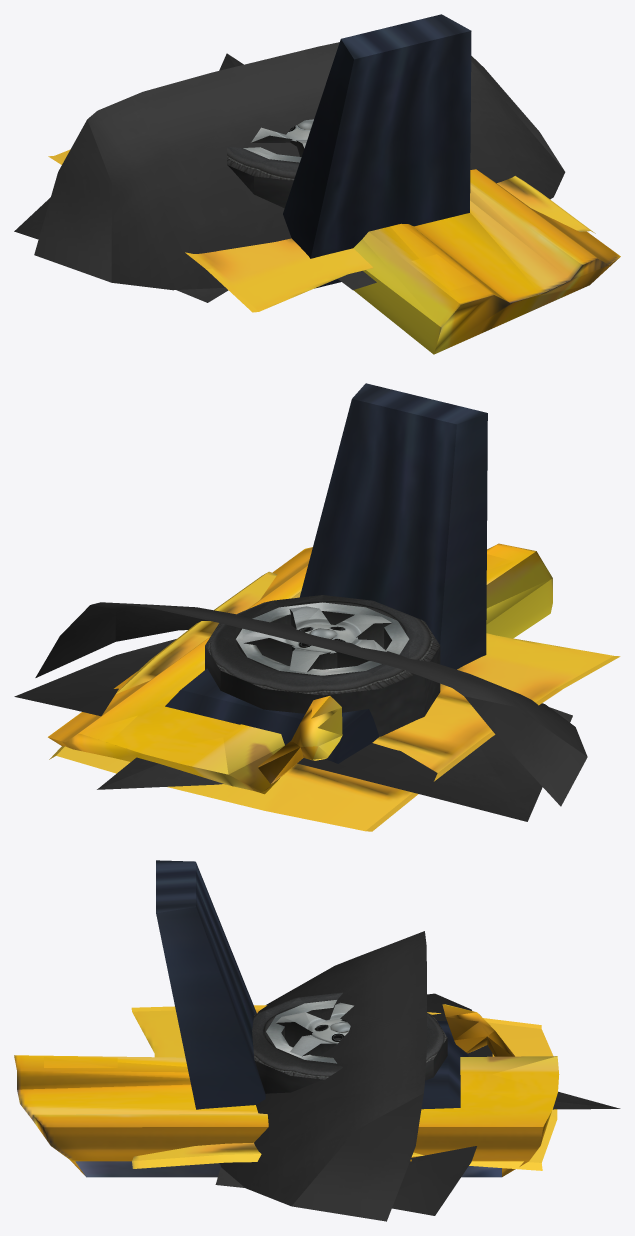
The model's file is zil_models.fbx.
The picture shows the model from 3 angles, top to bottom: view 1: azimuth 30°, elevation 25°; view 2: azimuth 150°, elevation 25°; view 3: azimuth 270°, elevation 25°; orthographic projection. The views are drawn at different scales.
Visible parts, largest first — view 1: rearwindow, frseat, Doorfr, Hood, wheel, windshield, window_fr; view 2: frseat, Doorfr, Hood, wheel, rearwindow, windshield, window_fr; view 3: Doorfr, rearwindow, frseat, wheel, Hood, windshield, window_fr.
Part boxes in pixels (x1,y1,x2,y2): rearwindow: (34,42,565,290); frseat: (283,14,471,288); Doorfr: (353,169,620,354); Hood: (48,149,595,312); wheel: (227,119,313,208); windshield: (14,197,228,302); window_fr: (219,53,376,289); frseat: (165,383,487,763); Doorfr: (48,543,552,794); Hood: (49,571,620,831); wheel: (205,595,440,736); rearwindow: (35,602,587,806); windshield: (14,639,572,821); window_fr: (97,757,223,789); Doorfr: (14,1004,559,1177); rearwindow: (220,931,426,1221); frseat: (156,860,468,1109); wheel: (252,992,447,1093); Hood: (131,1005,557,1170); windshield: (215,993,492,1215); window_fr: (553,1091,620,1109).
Bounding box in the file's own units: 1.1 × 0.5243 × 1.24.
